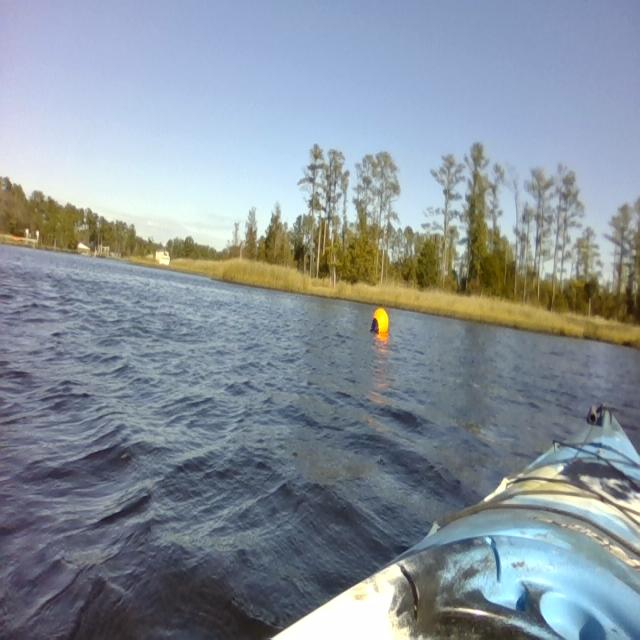Buoy: (366, 303, 396, 345)
